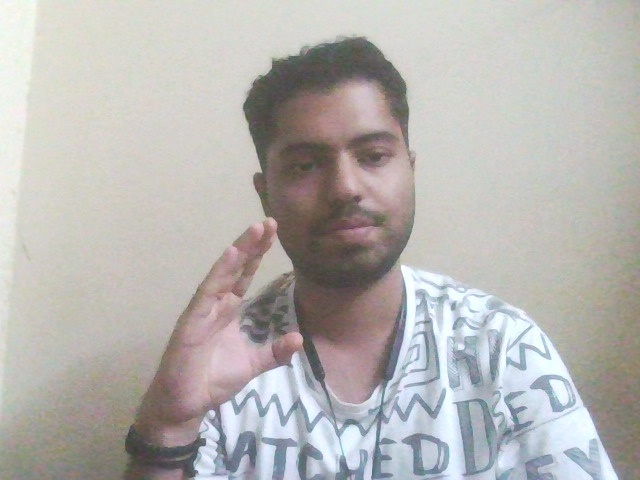C: (138, 205, 319, 412)
